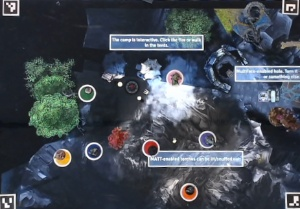blue: (83, 140, 104, 160)
green: (75, 83, 97, 104)
orange: (179, 179, 201, 201)
pink: (166, 68, 185, 86)
red: (139, 136, 160, 159)
violet: (194, 129, 219, 150)
yellow: (51, 146, 71, 167)
